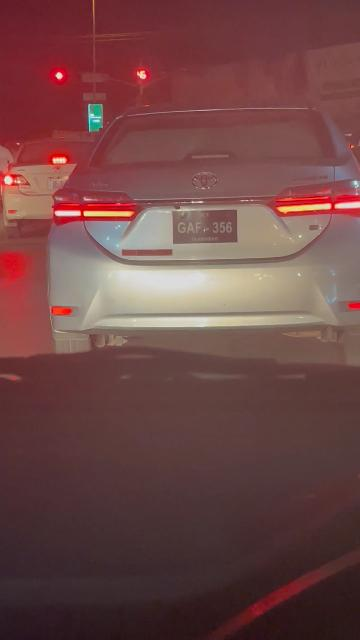plate: (172, 211, 238, 243)
